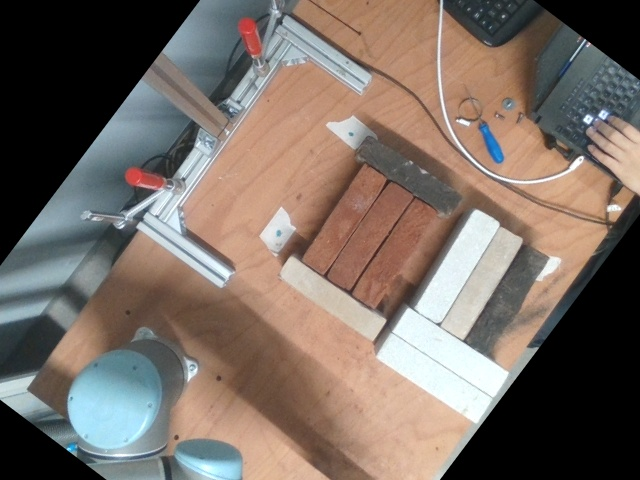brick-side: (377, 334, 490, 421), (351, 197, 438, 310), (327, 179, 414, 292), (301, 162, 388, 275), (277, 254, 388, 342), (395, 309, 508, 395), (416, 209, 500, 323), (439, 226, 523, 340), (466, 244, 550, 358), (354, 133, 463, 218)
